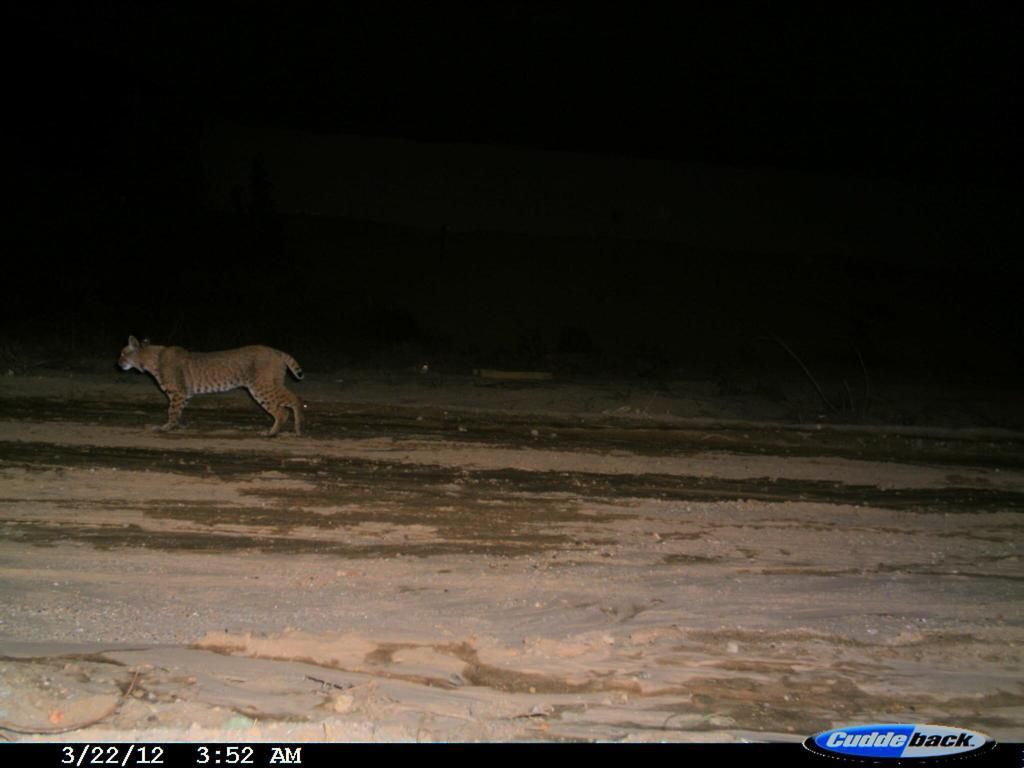bobcat: (111, 323, 322, 447)
